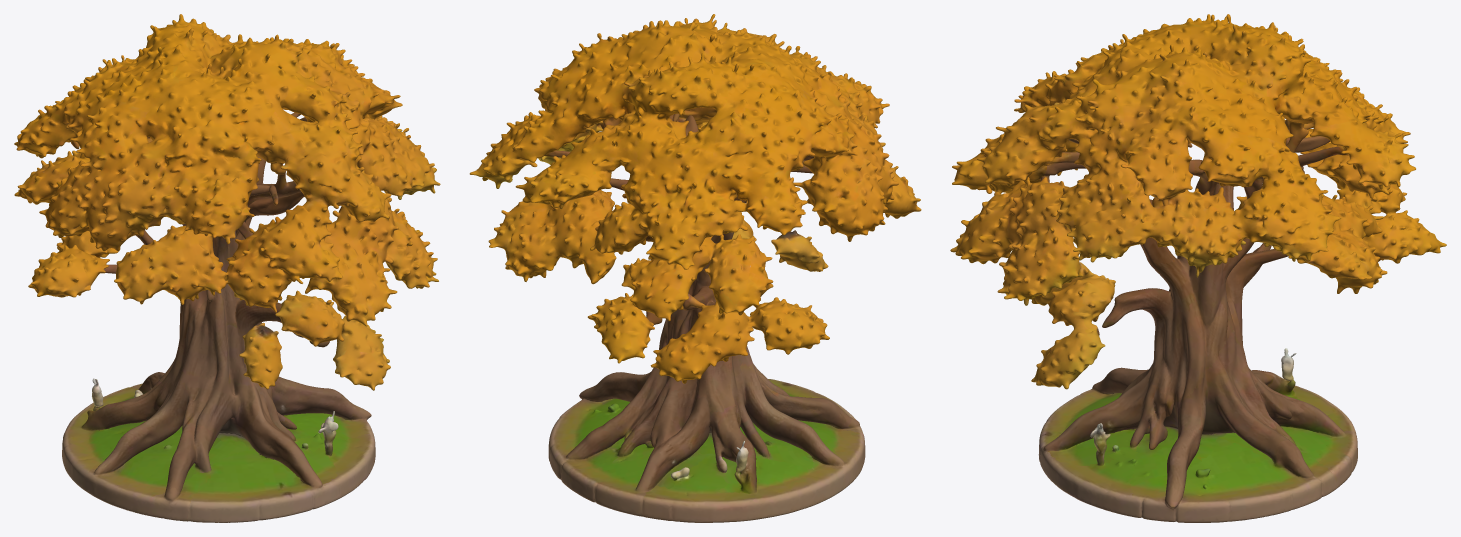
File: mesh.glb.tmp-opt.glb
3 renders of one model, left to right at view 1: azimuth 30°, elevation 25°; view 2: azimuth 150°, elevation 25°; view 3: azimuth 270°, elevation 25°, orthographic. The views are drawn at different scales.
Visible parts, largest first — view 1: tripo_node_d89eadd6-76a6-45b4-9c08-3742fb663458; view 2: tripo_node_d89eadd6-76a6-45b4-9c08-3742fb663458; view 3: tripo_node_d89eadd6-76a6-45b4-9c08-3742fb663458.
Part boxes in pixels (bbox=[...]): tripo_node_d89eadd6-76a6-45b4-9c08-3742fb663458: bbox=[14, 14, 440, 522]; tripo_node_d89eadd6-76a6-45b4-9c08-3742fb663458: bbox=[469, 14, 921, 522]; tripo_node_d89eadd6-76a6-45b4-9c08-3742fb663458: bbox=[950, 14, 1446, 522].
Bounding box in the file's own units: 0.8387 × 0.9663 × 0.9999.
1 material, 1 textured.
